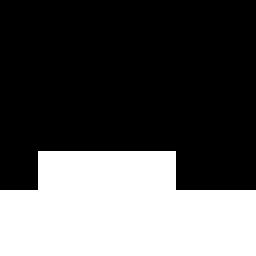rumex: (0, 190, 255, 256), (38, 151, 175, 192)
